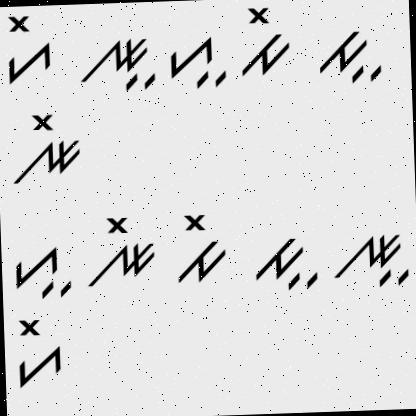hah: (9, 235, 74, 304), (164, 36, 228, 94)
ho: (12, 314, 68, 396), (0, 13, 58, 87)
mbah: (243, 226, 323, 296), (310, 24, 388, 87)
mbo: (167, 210, 229, 291), (238, 3, 294, 80)
ndah: (328, 225, 413, 289), (71, 32, 158, 93)
ndo: (5, 100, 84, 191), (78, 207, 160, 289)
